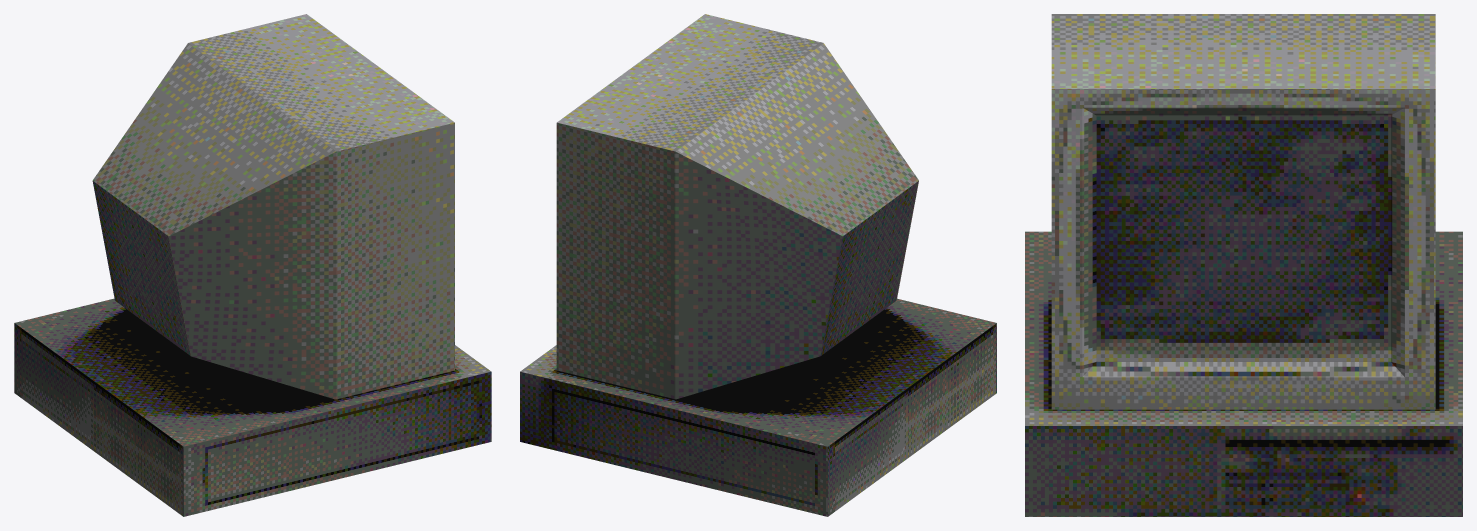
Rendered from PC_Completa.fbx.
3 renders of one model, left to right at view 1: azimuth 30°, elevation 25°; view 2: azimuth 150°, elevation 25°; view 3: azimuth 270°, elevation 25°, orthographic. The views are drawn at different scales.
Visible parts, largest first — view 1: Monitor3; view 2: Monitor3; view 3: Monitor3.
Part boxes in pixels (x1=…): Monitor3: x1=14, y1=14, x2=491, y2=516; Monitor3: x1=520, y1=14, x2=996, y2=516; Monitor3: x1=1025, y1=14, x2=1462, y2=516.
Bounding box in the file's own units: 2.79 × 2.75 × 2.65.
